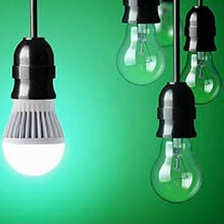light_bulb: (0, 88, 73, 184), (146, 129, 206, 207), (111, 14, 170, 93), (169, 38, 223, 110)
